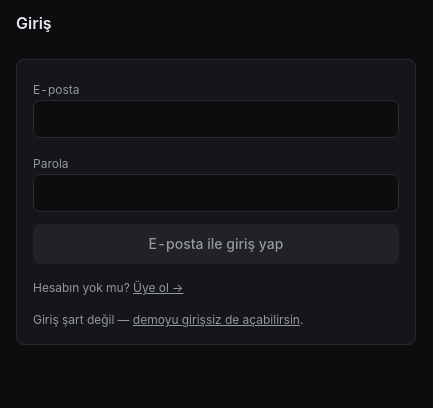
it: LoginPage — email girişi › 429 → Retry-After saniyesi gösterilir
Type "a@b.com" into the field labelled "E-posta". click: coordinates (216, 119)
box: [33,100,399,138]
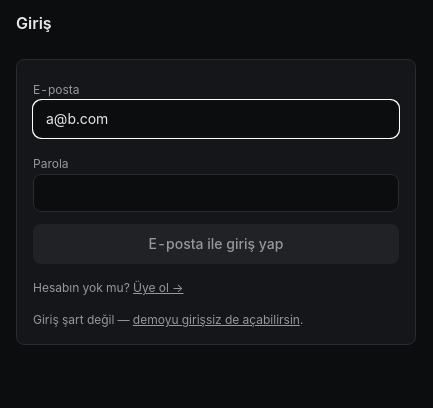
Type "x" into the password field labelled "Parola". click: coordinates (216, 193)
box: [33,174,399,212]
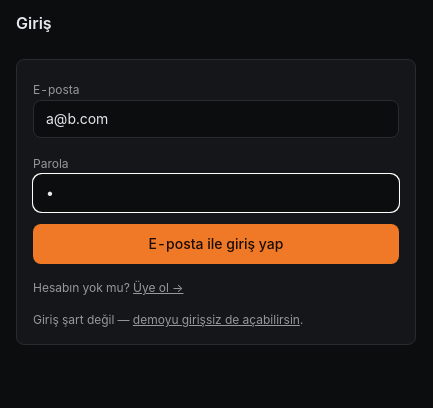
Click the button "E-posta ile giriş yap". click: coordinates (216, 244)
box: [33,224,399,264]
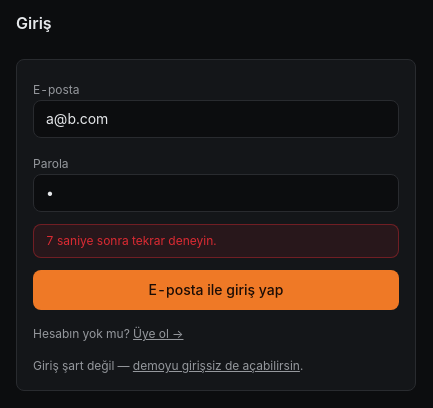
expect the text "7 saniye sonra tekrar deneyin." is shown: met, box [33,224,399,258]
